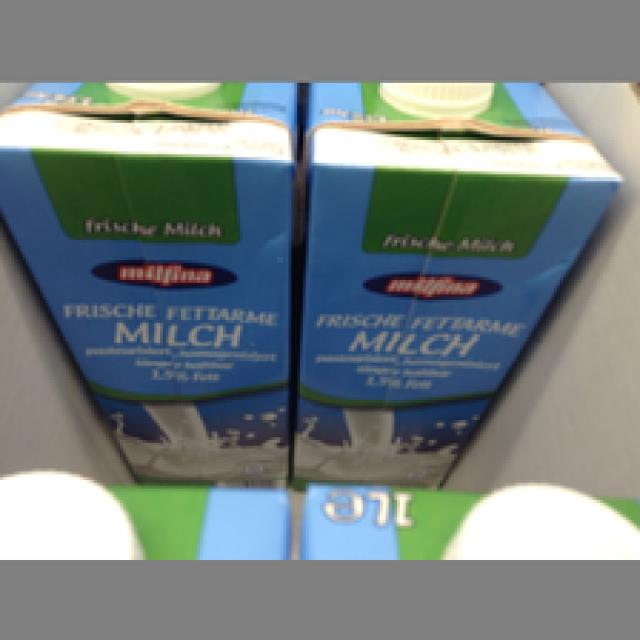groceries: (300, 80, 620, 486), (0, 77, 291, 482)
